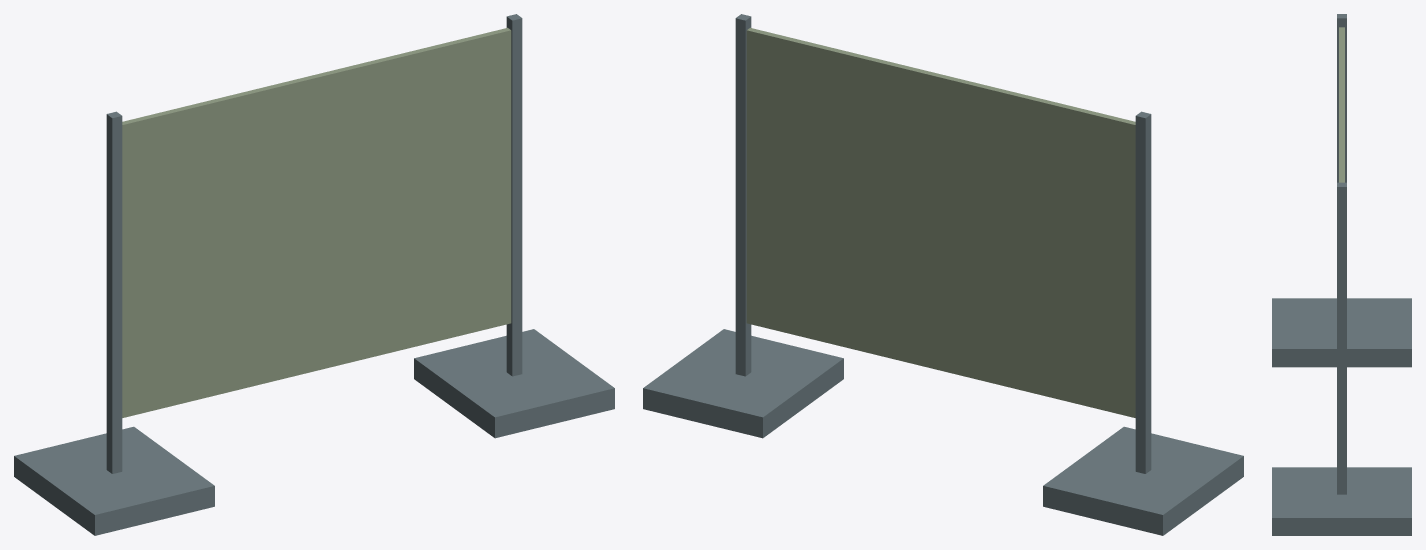
Rendered from zombie-quarantine-streets-triage-screen-524b0bb4__19341.glb.
3 renders of one model, left to right at view 1: azimuth 30°, elevation 25°; view 2: azimuth 150°, elevation 25°; view 3: azimuth 270°, elevation 25°, orthographic. The views are drawn at different scales.
Parts seen in each view (by area): view 1: triage-screen; view 2: triage-screen; view 3: triage-screen.
Boxes of the visible parts, x1,y1,x2,y2 form: triage-screen: [14, 14, 614, 535]; triage-screen: [643, 14, 1243, 535]; triage-screen: [1272, 14, 1411, 535].
Size of the model in its own units: 2.6 by 1.8 by 0.6999.
